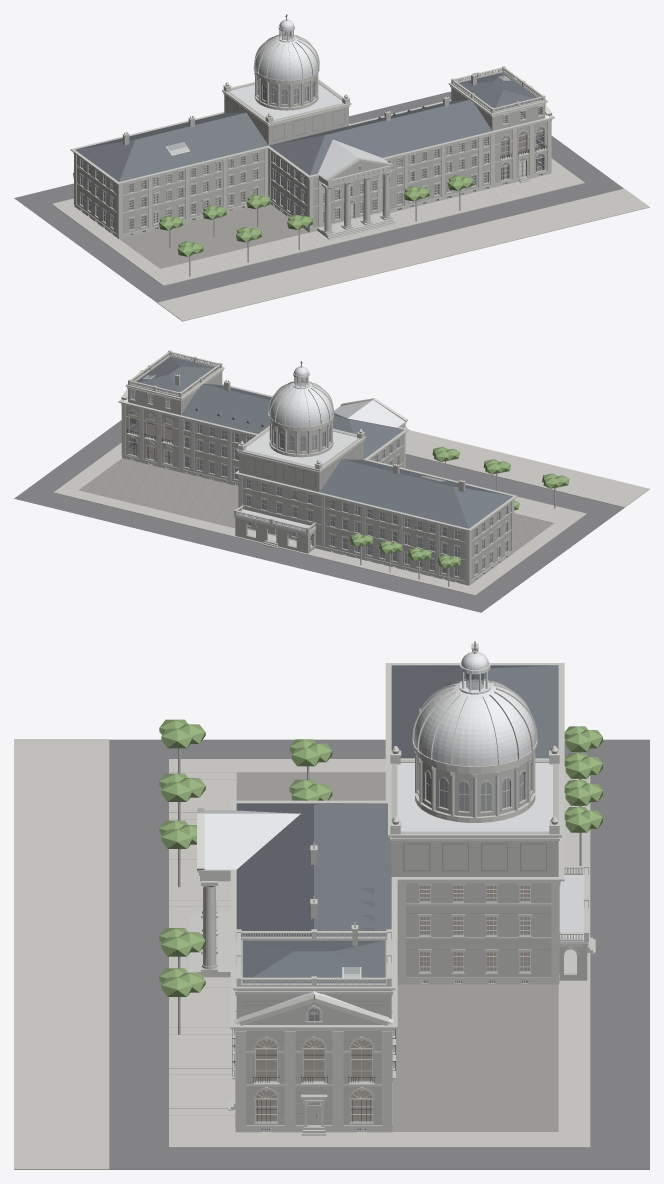
The model's file is clay-old-montreal-limestone-commercial-clay-v004.glb.
The picture shows the model from 3 angles, top to bottom: view 1: azimuth 30°, elevation 25°; view 2: azimuth 150°, elevation 25°; view 3: azimuth 270°, elevation 25°; orthographic projection. The views are drawn at different scales.
Parts seen in each view (by area): view 1: CLAY_CONCRETE, CLAY_WALL, CLAY_STONE, CLAY_ROOF, CLAY_ASPHALT, CLAY_COBBLE, CLAY_GLASS, CLAY_METAL, CLAY_FRAME, CLAY_FLOOR, CLAY_PLANTING, CLAY_TRIM; view 2: CLAY_WALL, CLAY_ASPHALT, CLAY_STONE, CLAY_ROOF, CLAY_CONCRETE, CLAY_COBBLE, CLAY_GLASS, CLAY_METAL, CLAY_FRAME, CLAY_PLANTING, CLAY_TRIM, CLAY_FLOOR (+1 smaller); view 3: CLAY_CONCRETE, CLAY_ASPHALT, CLAY_STONE, CLAY_WALL, CLAY_ROOF, CLAY_COBBLE, CLAY_METAL, CLAY_PLANTING, CLAY_GLASS, CLAY_FLOOR, CLAY_FRAME, CLAY_JOINT (+4 smaller).
Boxes of the visible parts, bbox=[...] form: CLAY_CONCRETE: bbox=[52, 158, 649, 321]; CLAY_WALL: bbox=[76, 72, 550, 236]; CLAY_STONE: bbox=[70, 65, 554, 239]; CLAY_ROOF: bbox=[75, 72, 540, 181]; CLAY_ASPHALT: bbox=[14, 91, 623, 302]; CLAY_COBBLE: bbox=[119, 204, 308, 268]; CLAY_GLASS: bbox=[81, 31, 544, 234]; CLAY_METAL: bbox=[230, 19, 549, 180]; CLAY_FRAME: bbox=[81, 76, 544, 229]; CLAY_FLOOR: bbox=[129, 115, 543, 228]; CLAY_PLANTING: bbox=[73, 172, 473, 256]; CLAY_TRIM: bbox=[253, 30, 319, 80]; CLAY_WALL: bbox=[123, 356, 511, 582]; CLAY_ASPHALT: bbox=[14, 412, 624, 612]; CLAY_STONE: bbox=[118, 350, 517, 585]; CLAY_ROOF: bbox=[134, 356, 512, 528]; CLAY_CONCRETE: bbox=[53, 430, 649, 595]; CLAY_COBBLE: bbox=[79, 458, 553, 552]; CLAY_GLASS: bbox=[129, 375, 506, 581]; CLAY_METAL: bbox=[124, 366, 405, 466]; CLAY_FRAME: bbox=[128, 375, 506, 576]; CLAY_PLANTING: bbox=[350, 447, 569, 568]; CLAY_TRIM: bbox=[268, 376, 334, 427]; CLAY_FLOOR: bbox=[130, 399, 172, 463]; CLAY_CONCRETE: bbox=[14, 739, 590, 1169]; CLAY_ASPHALT: bbox=[109, 739, 649, 1169]; CLAY_STONE: bbox=[189, 643, 595, 1135]; CLAY_WALL: bbox=[236, 649, 587, 1131]; CLAY_ROOF: bbox=[236, 665, 558, 983]; CLAY_COBBLE: bbox=[236, 772, 558, 1131]; CLAY_METAL: bbox=[202, 650, 552, 1023]; CLAY_PLANTING: bbox=[159, 719, 602, 996]; CLAY_GLASS: bbox=[255, 673, 529, 1130]; CLAY_FLOOR: bbox=[255, 886, 530, 1120]; CLAY_FRAME: bbox=[255, 708, 530, 1122]; CLAY_JOINT: bbox=[169, 772, 552, 1131].
Size of the model in its own units: 128 by 42.5 by 80.
